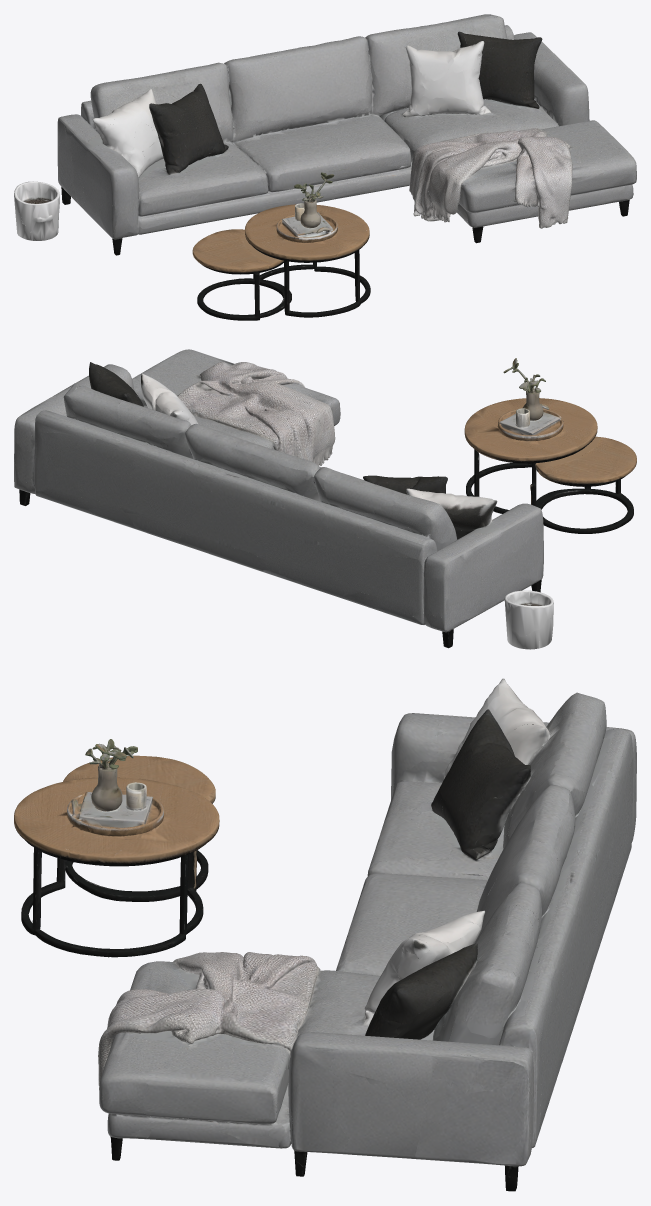
File: sofa4.glb
The picture shows the model from 3 angles, top to bottom: view 1: azimuth 30°, elevation 25°; view 2: azimuth 150°, elevation 25°; view 3: azimuth 270°, elevation 25°; orthographic projection. The views are drawn at different scales.
Parts seen in each view (by area): view 1: node_id4; view 2: node_id4; view 3: node_id4.
Boxes of the visible parts, left/top/right/bottom form: node_id4: left=14, top=14, right=636, bottom=320; node_id4: left=14, top=349, right=636, bottom=649; node_id4: left=14, top=678, right=636, bottom=1191.
Size of the model in its own units: 1.91 by 0.4485 by 1.28.
1 material, 1 textured.
